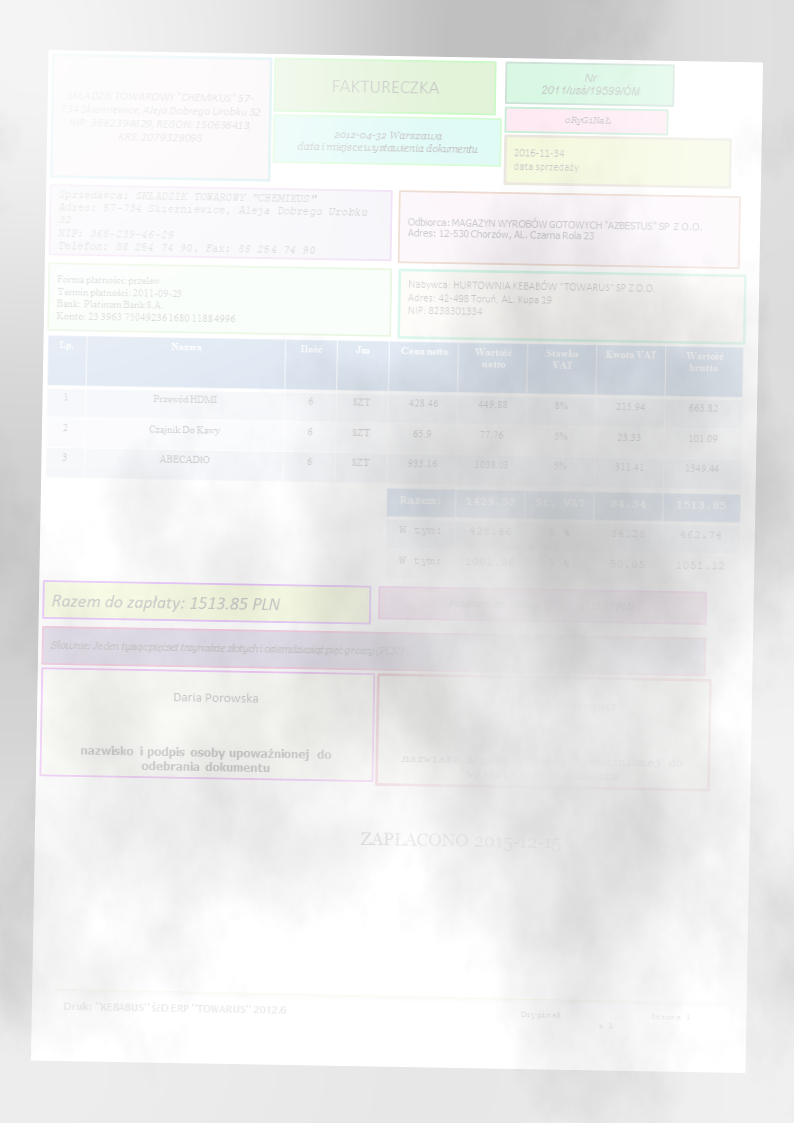Table: (44, 333, 745, 491), (382, 487, 743, 585)
TextBox: (55, 185, 371, 257), (58, 86, 263, 147), (405, 277, 657, 320), (52, 270, 239, 325), (397, 751, 683, 785), (47, 634, 405, 661), (405, 215, 705, 245), (76, 744, 334, 777), (48, 587, 282, 613), (294, 127, 482, 157), (356, 829, 563, 856), (60, 995, 291, 1018), (518, 1009, 695, 1033), (445, 595, 636, 613), (537, 68, 642, 99), (328, 76, 443, 98), (507, 695, 621, 715), (511, 145, 581, 174), (169, 686, 262, 706), (561, 112, 615, 126)
